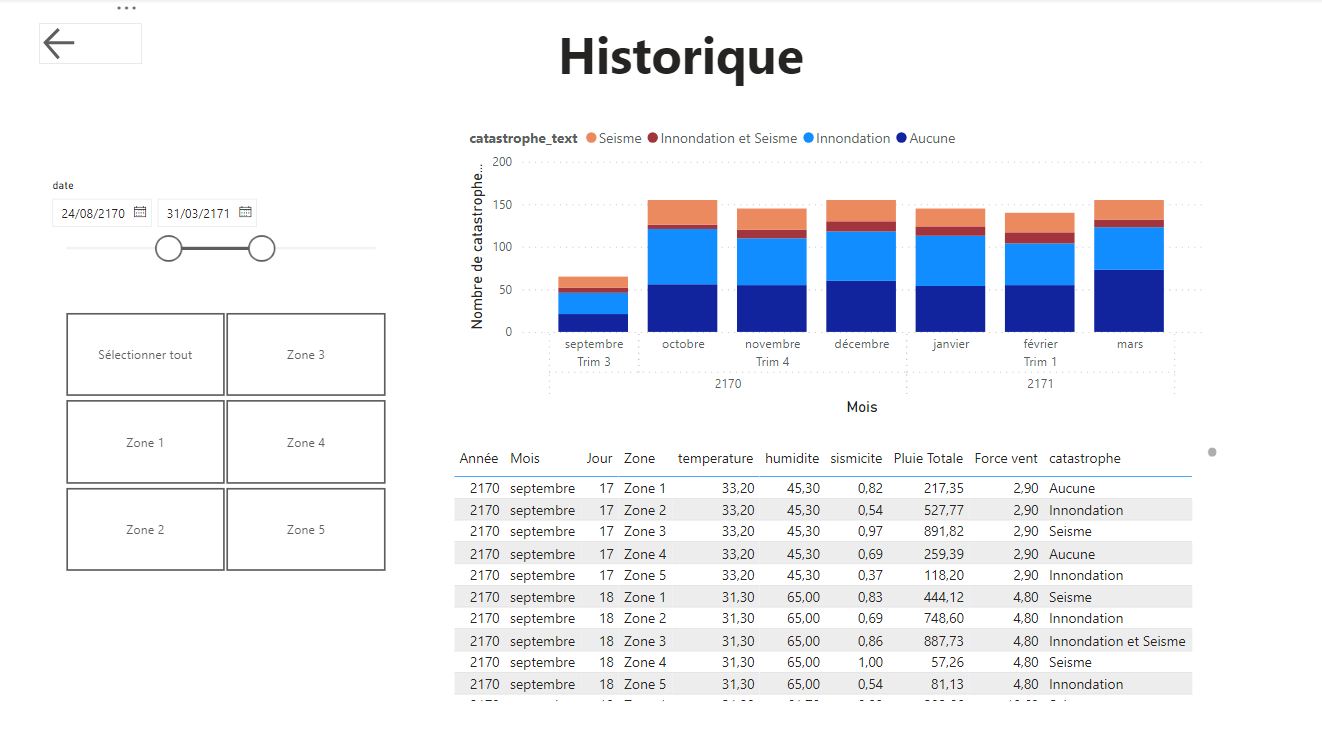

Layout of this report page (visuals, bound fields, positions):
{"tool":"powerbi","page":{"name":"Historique","canvas":[1280,720],"ordinal":1},"visuals":[{"type":"columnChart","title":"Catastrophe","fields":{"Category":["catastrophes_naturelles_transformes.date.Variation.Hiérarchie de dates.Année","catastrophes_naturelles_transformes.date.Variation.Hiérarchie de dates.Trimestre","catastrophes_naturelles_transformes.date.Variation.Hiérarchie de dates.Mois"],"Y":["CountNonNull(catastrophes_naturelles_transformes.catastrophe_text)"],"Series":["catastrophes_naturelles_transformes.catastrophe_text"]},"box":[448.3,115,716.7,293.3],"z":0},{"type":"slicer","fields":{"Values":["catastrophes_naturelles_transformes.date"]},"box":[38.3,168.3,348.3,115],"z":1000},{"type":"tableEx","fields":{"Values":["catastrophes_naturelles_transformes.date.Variation.Hiérarchie de dates.Année","catastrophes_naturelles_transformes.date.Variation.Hiérarchie de dates.Mois","catastrophes_naturelles_transformes.date.Variation.Hiérarchie de dates.Jour","catastrophes_naturelles_transformes.Zone","catastrophes_naturelles_transformes.temperature","catastrophes_naturelles_transformes.humidite","catastrophes_naturelles_transformes.sismicite","catastrophes_naturelles_transformes.pluie_totale","catastrophes_naturelles_transformes.force_moyenne_du_vecteur_de_vent","catastrophes_naturelles_transformes.catastrophe_text"]},"box":[433,428,747,255],"z":2000},{"type":"textbox","box":[391.7,16.7,531.7,95],"z":3000},{"type":"slicer","fields":{"Values":["catastrophes_naturelles_transformes.Zone"]},"box":[38.3,296.7,358.3,263.3],"z":4000},{"type":"actionButton","box":[38.6,24.3,100,40],"z":5000}]}

Visuals, with their boxes on the page's 1280x720 design canvas (x1, y1, x2, y2). These are canvas units, not pixel positions in the 1322x742 screenshot, which may show the page scaled, cropped or inside an application window:
"Catastrophe" columnChart: select_region(448, 115, 1165, 408)
slicer - catastrophes_naturelles_transformes.date: select_region(38, 168, 387, 283)
tableEx - catastrophes_naturelles_transformes.date.Variation.Hiérarchie de dates.Année x catastrophes_naturelles_transformes.date.Variation.Hiérarchie de dates.Mois: select_region(433, 428, 1180, 683)
textbox: select_region(392, 17, 923, 112)
slicer - catastrophes_naturelles_transformes.Zone: select_region(38, 297, 397, 560)
actionButton: select_region(39, 24, 139, 64)
